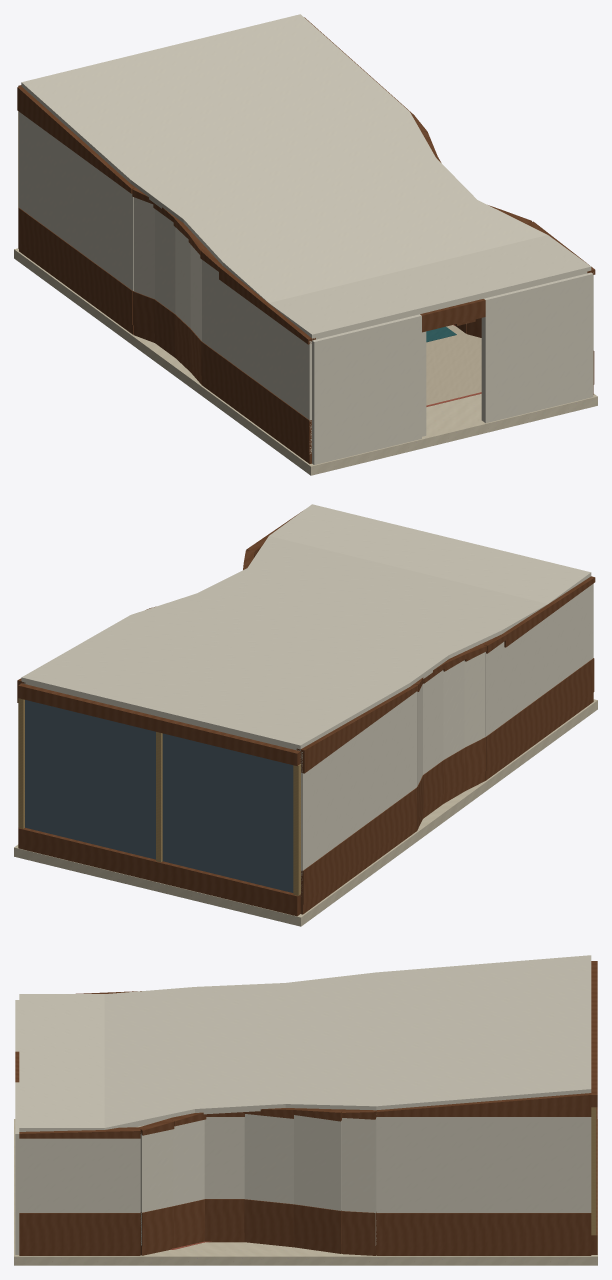
Rendered from shell.glb.
The picture shows the model from 3 angles, top to bottom: view 1: azimuth 30°, elevation 25°; view 2: azimuth 150°, elevation 25°; view 3: azimuth 270°, elevation 25°; orthographic projection.
Visible parts, largest first — view 1: SA_Runtime_ivory_enamel, SA_Runtime_warm_walnut, SA_Runtime_warm_stone, SA_Runtime_oatmeal_weave; view 2: SA_Runtime_ivory_enamel, SA_Runtime_SA_SourceDirectionalPrivacy_NOT_RUNTIME_ACCEPTED, SA_Runtime_warm_walnut, SA_Runtime_warm_stone, SA_Runtime_champagne_metal; view 3: SA_Runtime_ivory_enamel, SA_Runtime_warm_walnut, SA_Runtime_warm_stone, SA_Runtime_champagne_metal.
Part boxes in pixels (x1,y1,x2,y2): SA_Runtime_ivory_enamel: (19, 14, 593, 464); SA_Runtime_warm_walnut: (17, 17, 595, 463); SA_Runtime_warm_stone: (14, 248, 597, 475); SA_Runtime_oatmeal_weave: (426, 325, 481, 405); SA_Runtime_ivory_enamel: (21, 504, 593, 885); SA_Runtime_SA_SourceDirectionalPrivacy_NOT_RUNTIME_ACCEPTED: (25, 700, 293, 892); SA_Runtime_warm_walnut: (17, 511, 595, 916); SA_Runtime_warm_stone: (14, 699, 597, 926); SA_Runtime_champagne_metal: (18, 698, 300, 895); SA_Runtime_ivory_enamel: (15, 955, 591, 1254); SA_Runtime_warm_walnut: (15, 961, 597, 1255); SA_Runtime_warm_stone: (14, 1119, 597, 1265); SA_Runtime_champagne_metal: (591, 1107, 596, 1235).
Bounding box in the file's own units: 7.2 × 4.26 × 12.9.
9 materials, 7 textured.
